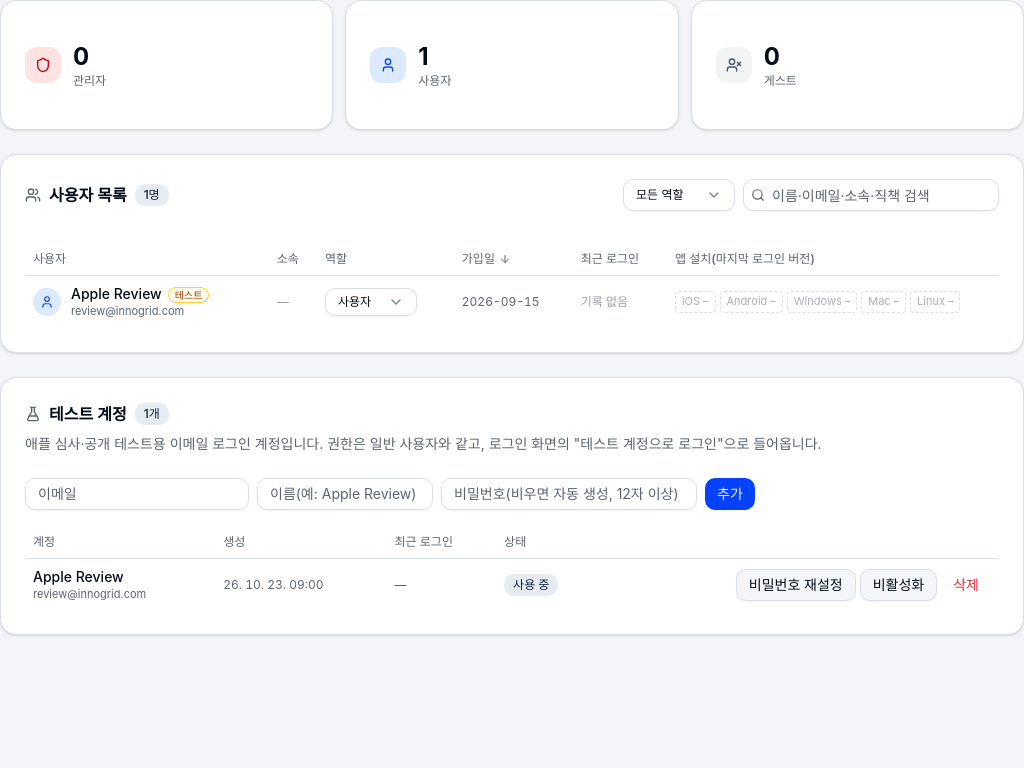
테스트 계정은 사용자 목록에 배지, 카드에 목록·버튼, 삭제는 확인 단계를 거친다
Expected: the row named "Apple Review 상세 보기" shows "테스트", [175,289,202,301]
Expected: the row named "테스트 계정 review@innogrid.com" shows "사용 중", [513,576,549,592]
Click the button "삭제" at (966, 584), box [941,568,991,600]
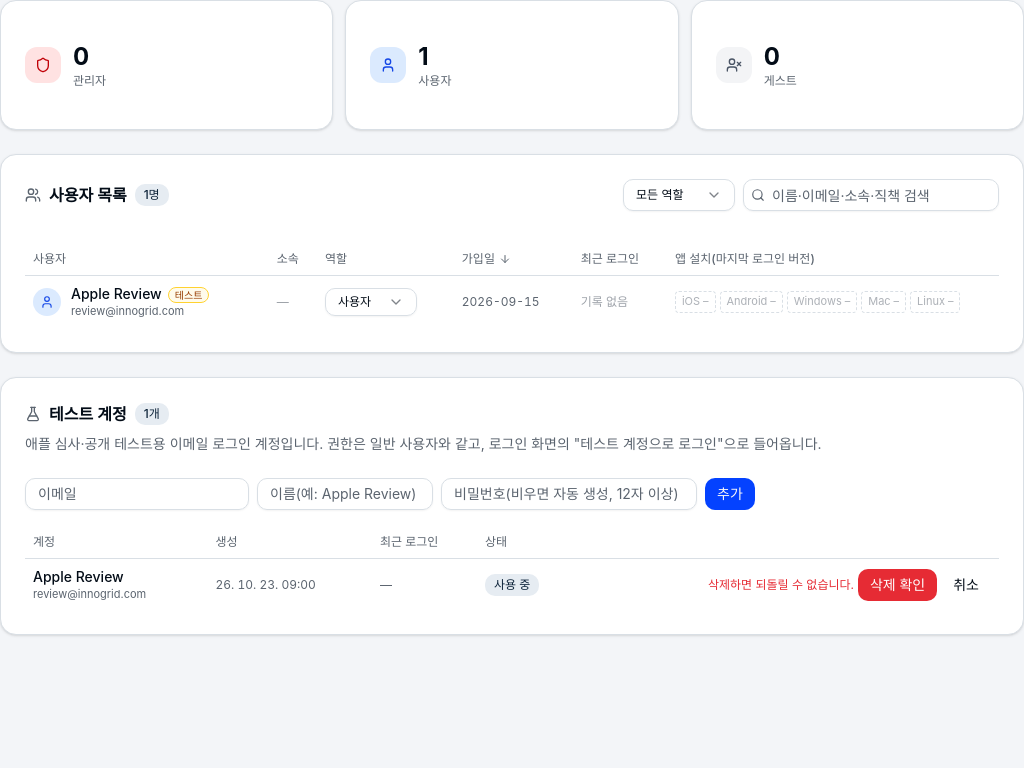
Expected: the button "삭제 확인" is shown, [858,568,937,600]
Expected: the text "삭제하면 되돌릴 수 없습니다." is shown, [708,576,854,592]
